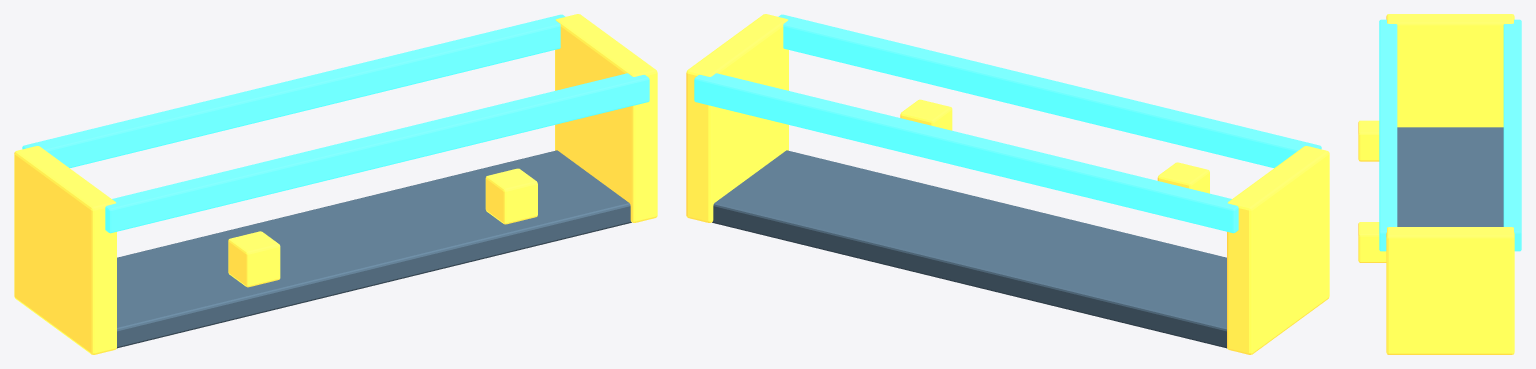
The model's file is mobile-tipper-cradle-v4-medium.glb.
The picture shows the model from 3 angles, left to right: view 1: azimuth 30°, elevation 25°; view 2: azimuth 150°, elevation 25°; view 3: azimuth 270°, elevation 25°; orthographic projection. The views are drawn at different scales.
Visible parts, largest first — view 1: tp-cradle-bed.001, tp-cradle-clamp-s.001, tp-cradle-clamp-n.001, tp-cradle-end-w.001, tp-cradle-end-e.001, tp-vibrator-w.001, tp-vibrator-e.001; view 2: tp-cradle-bed.001, tp-cradle-clamp-n.001, tp-cradle-clamp-s.001, tp-cradle-end-w.001, tp-cradle-end-e.001, tp-vibrator-e.001, tp-vibrator-w.001; view 3: tp-cradle-end-e.001, tp-cradle-end-w.001, tp-cradle-bed.001, tp-cradle-clamp-n.001, tp-cradle-clamp-s.001, tp-vibrator-e.001, tp-vibrator-w.001.
Boxes of the visible parts, bbox=[...] form: tp-cradle-bed.001: bbox=[117, 150, 631, 348]; tp-cradle-clamp-s.001: bbox=[105, 73, 649, 233]; tp-cradle-clamp-n.001: bbox=[22, 14, 565, 167]; tp-cradle-end-w.001: bbox=[14, 146, 116, 354]; tp-cradle-end-e.001: bbox=[555, 14, 657, 222]; tp-vibrator-w.001: bbox=[228, 231, 280, 287]; tp-vibrator-e.001: bbox=[485, 168, 537, 224]; tp-cradle-bed.001: bbox=[712, 150, 1226, 348]; tp-cradle-clamp-n.001: bbox=[694, 73, 1238, 233]; tp-cradle-clamp-s.001: bbox=[778, 14, 1321, 167]; tp-cradle-end-w.001: bbox=[1227, 146, 1329, 354]; tp-cradle-end-e.001: bbox=[686, 14, 788, 222]; tp-vibrator-e.001: bbox=[900, 99, 952, 130]; tp-vibrator-w.001: bbox=[1157, 162, 1209, 193]; tp-cradle-end-e.001: bbox=[1386, 227, 1514, 354]; tp-cradle-end-w.001: bbox=[1386, 14, 1514, 127]; tp-cradle-bed.001: bbox=[1397, 127, 1503, 226]; tp-cradle-clamp-n.001: bbox=[1503, 19, 1521, 251]; tp-cradle-clamp-s.001: bbox=[1379, 19, 1397, 251]; tp-vibrator-e.001: bbox=[1358, 222, 1386, 262]; tp-vibrator-w.001: bbox=[1358, 120, 1379, 161].
Size of the model in its own units: 13.2 by 3.32 by 4.07.
